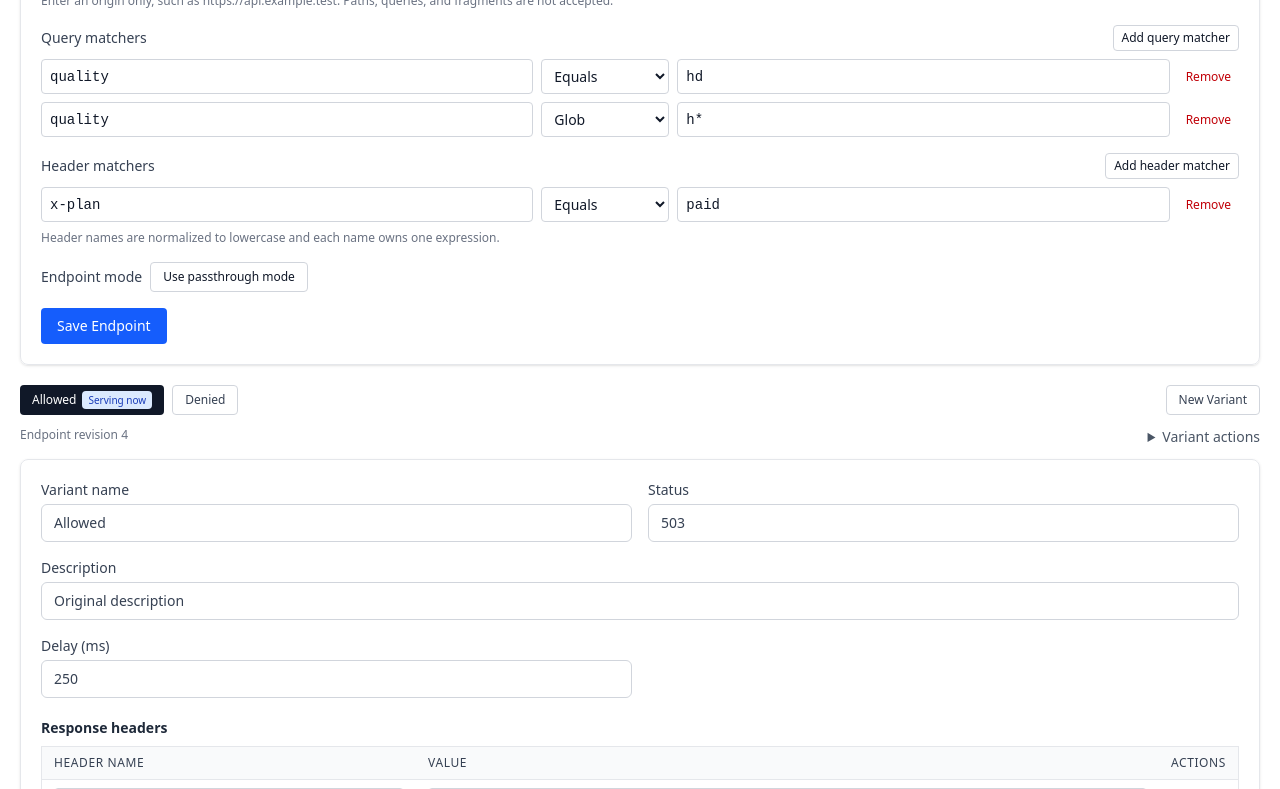
EndpointEditor › clones the selected Variant and reloads canonical revision and order
The width and height of the screenshot is (1280, 789).
(page scrolled)
Click the button "New Variant".
click(1213, 400)  # box x1=1166 y1=385 x2=1260 y2=415
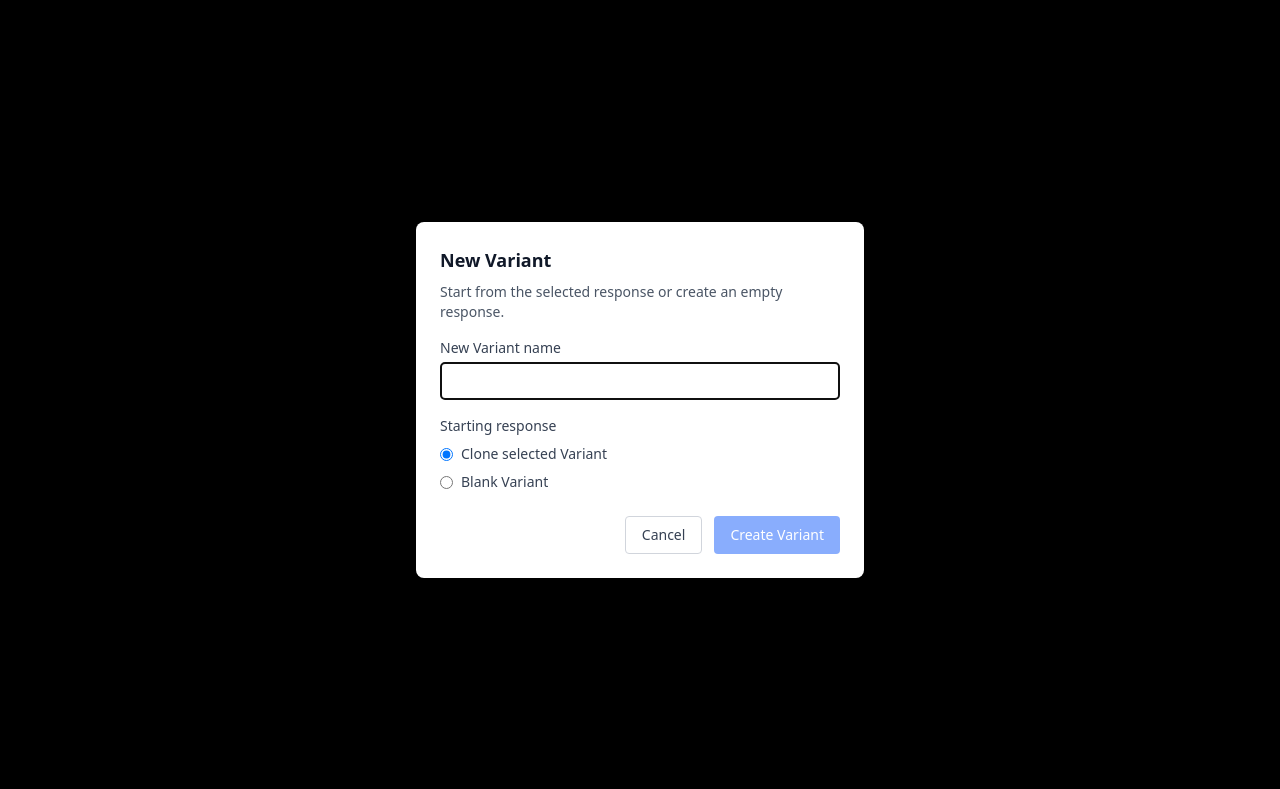
Expected: the radio button labelled "Clone selected Variant" is checked, x1=440 y1=448 x2=453 y2=460
Type "Copied failure" into the field labelled "New Variant name".
click(640, 381); type("Copied failure")  # box x1=440 y1=362 x2=840 y2=400
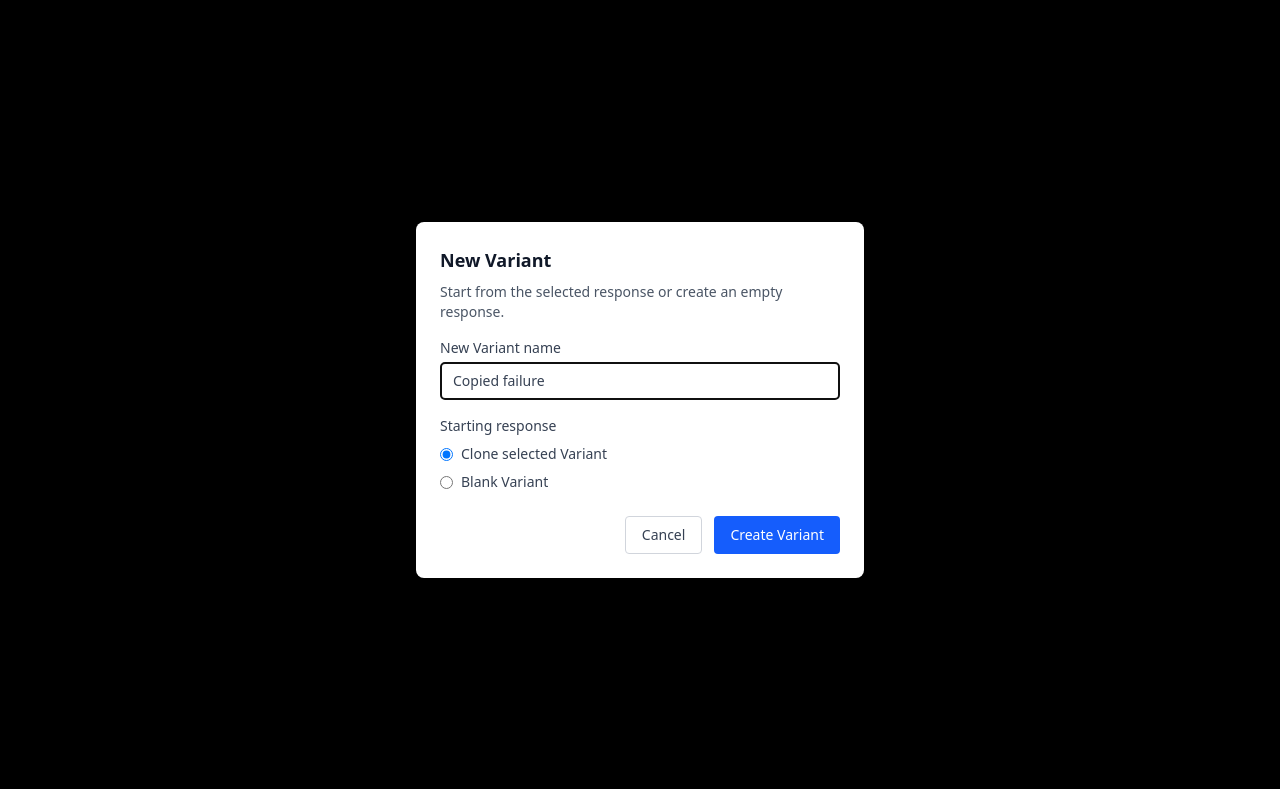
Click the button "Create Variant".
click(777, 535)  # box x1=714 y1=516 x2=840 y2=554
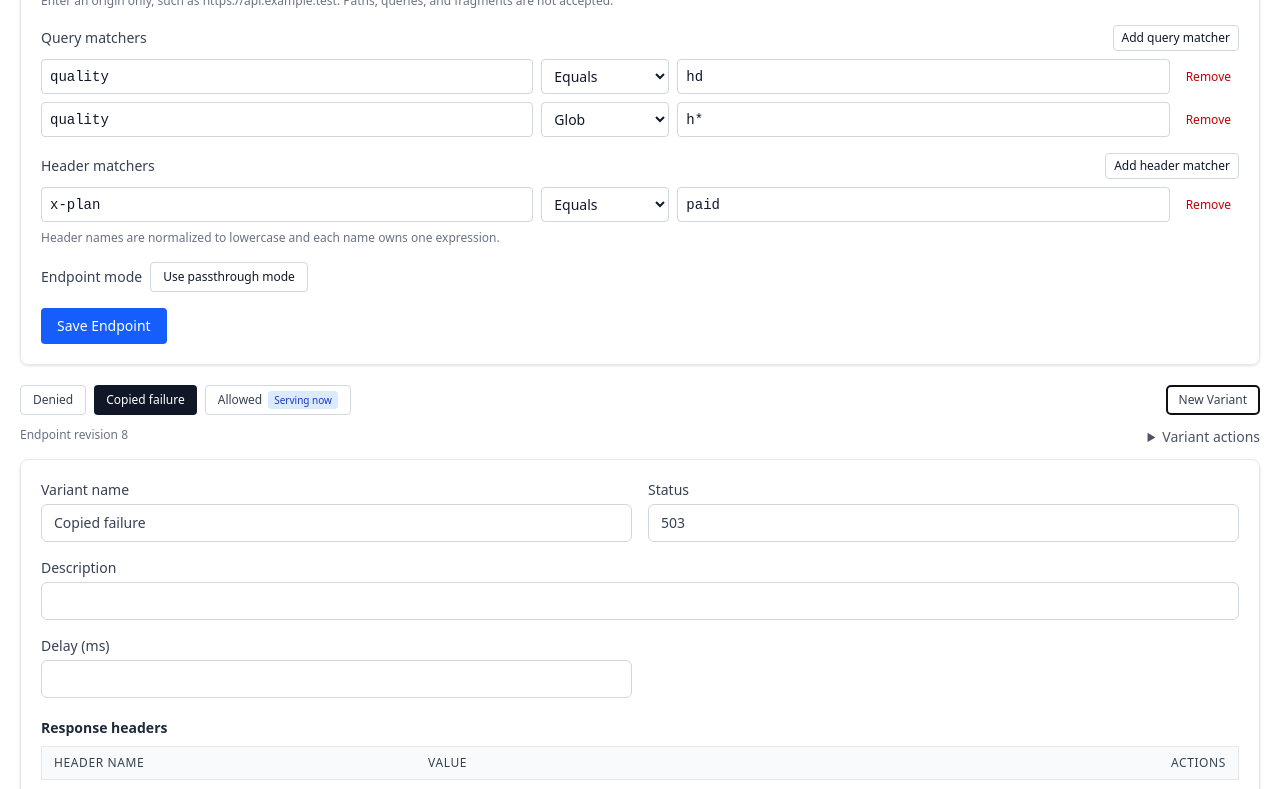
Expected: the text "Endpoint revision 8" is shown, x1=20 y1=427 x2=128 y2=443
Expected: the tabs read "Denied", "Copied failure", "AllowedServing now", in this order, x1=20 y1=385 x2=86 y2=415; x1=94 y1=385 x2=197 y2=415; x1=205 y1=385 x2=351 y2=415
Expected: the field labelled "Variant name" holds "Copied failure", x1=41 y1=504 x2=632 y2=542
